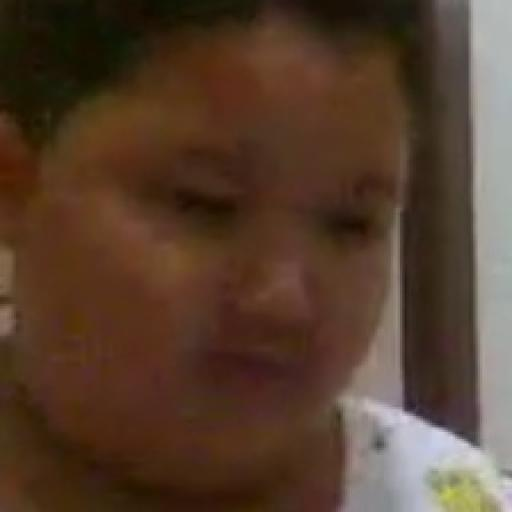Autism: (0, 0, 405, 473)
